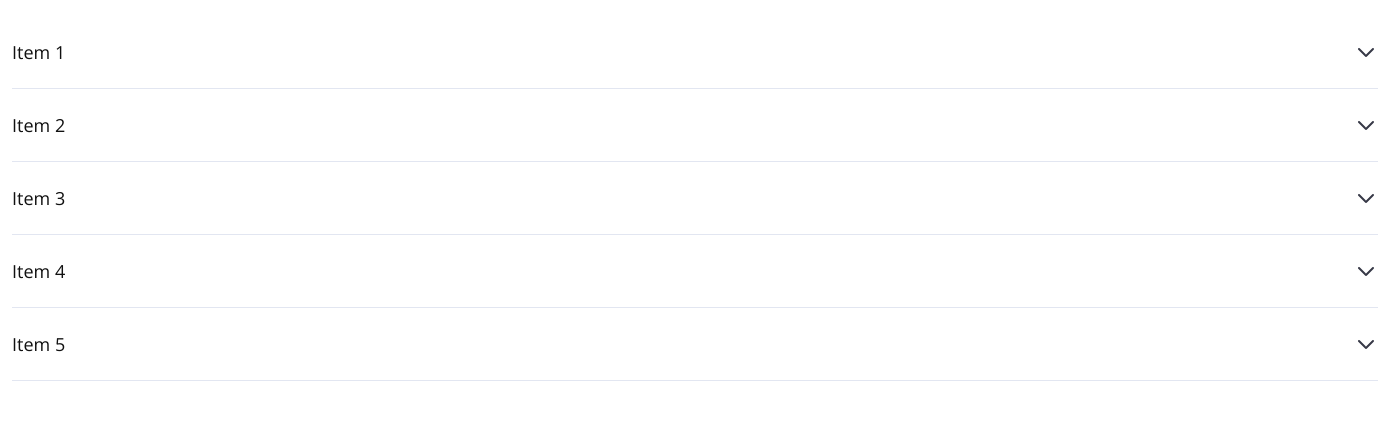
Test case: Accordion › expands accordion content when clicked
The width and height of the screenshot is (1390, 440).
Click the button "Item 1": [39, 52] box [12,16,1378,88]
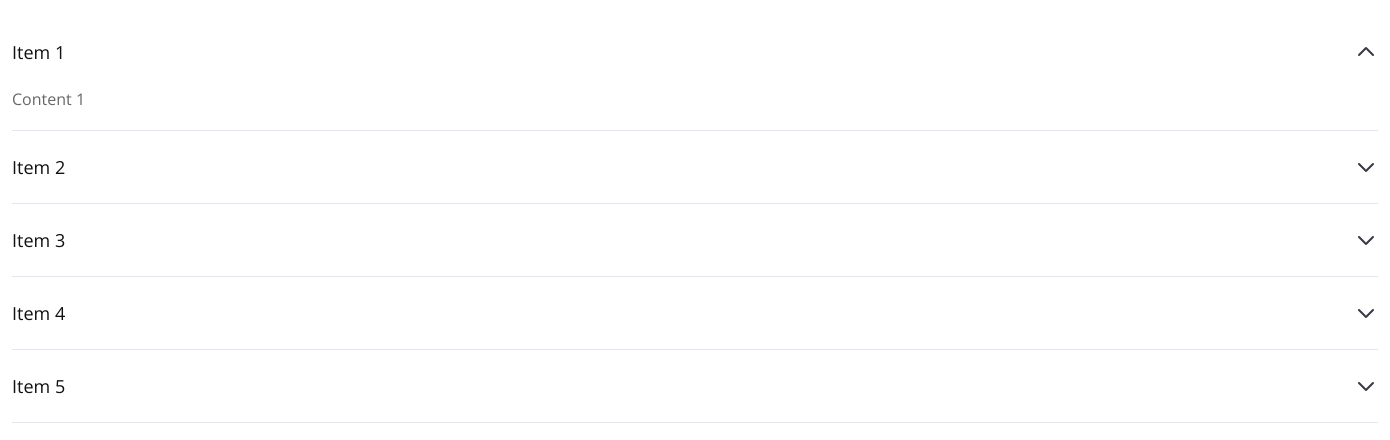
Expected: the button "Item 1" has attribute aria-expanded, [12,16,1378,88]
